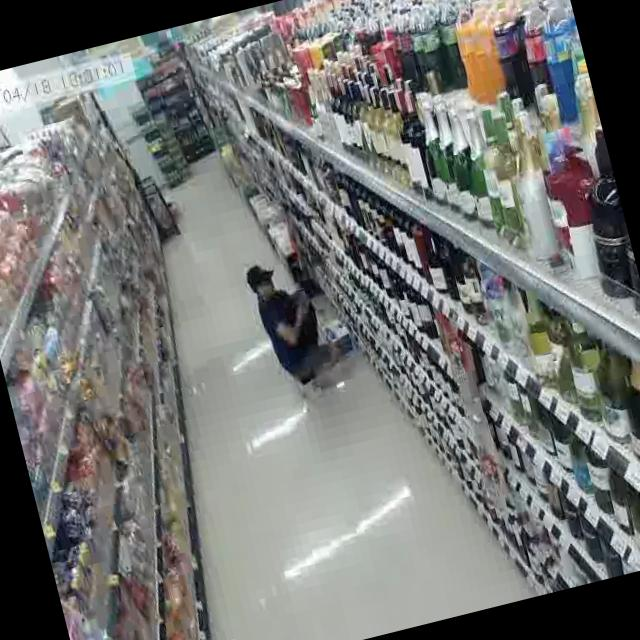shoplifting: (231, 223, 376, 417)
